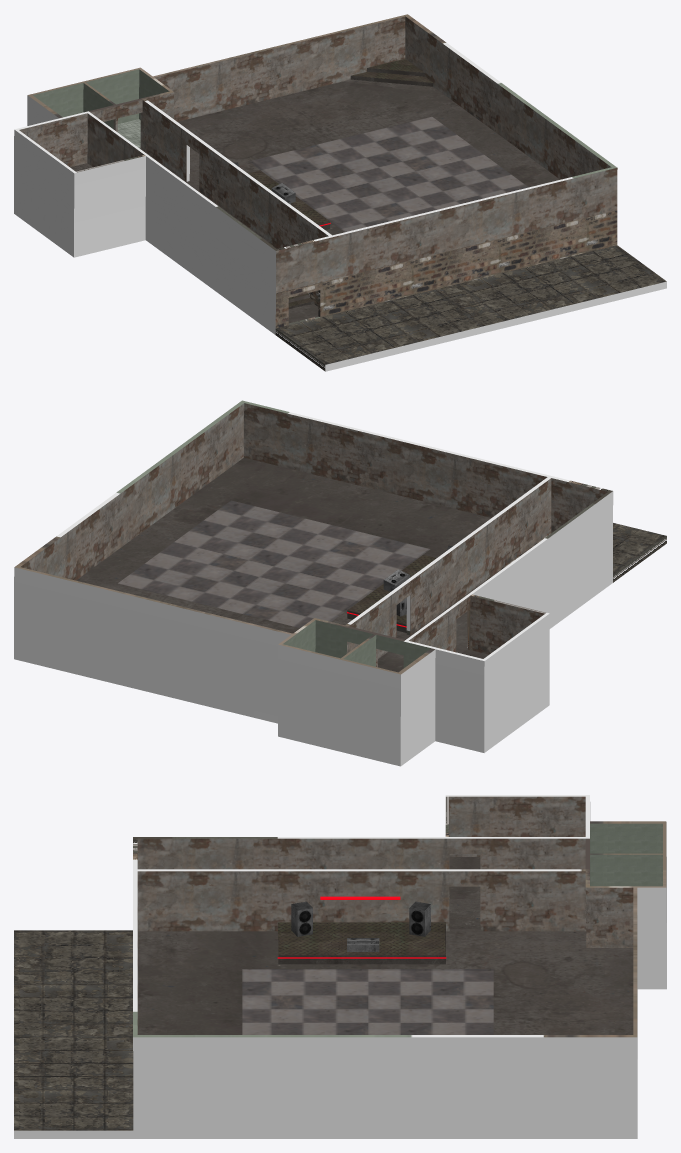
File: alfa_cenario.glb
3 renders of one model, top to bottom at view 1: azimuth 30°, elevation 25°; view 2: azimuth 150°, elevation 25°; view 3: azimuth 270°, elevation 25°, orthographic. The views are drawn at different scales.
Visible parts, largest first — view 1: modelo; view 2: modelo; view 3: modelo, som.001, som.
Part boxes in pixels (x1,y1,x2,y2): modelo: [14, 14, 666, 371]; modelo: [14, 400, 666, 766]; modelo: [14, 795, 666, 1138]; som.001: [409, 901, 430, 936]; som: [291, 901, 312, 936].
Size of the model in its own units: 35.48 by 6.93 by 40.39.
Materials: 7 (6 with a texture image).
